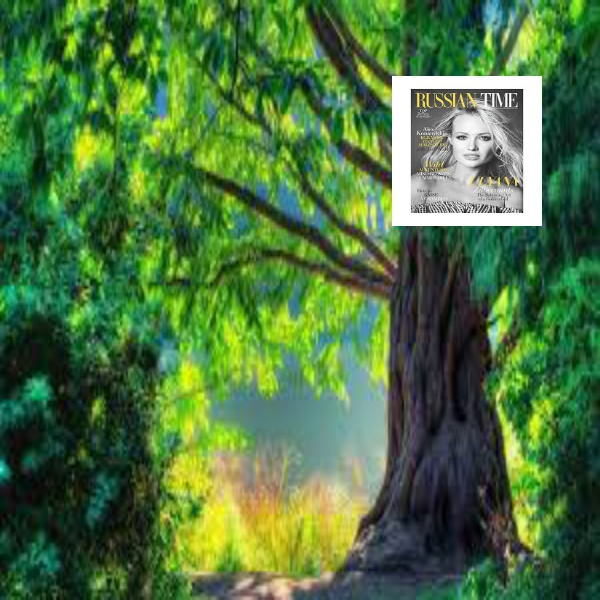time_cover: (405, 87, 541, 222)
